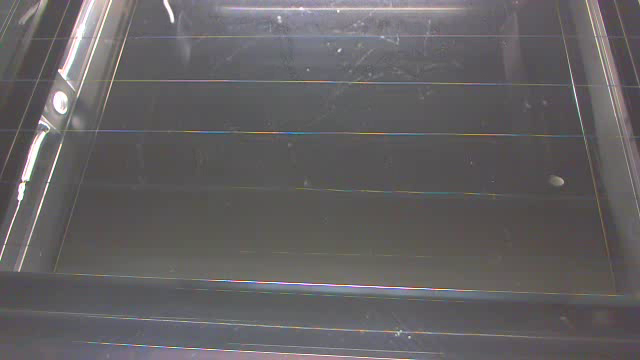alpha: (160, 2, 180, 27), (550, 176, 564, 191)
